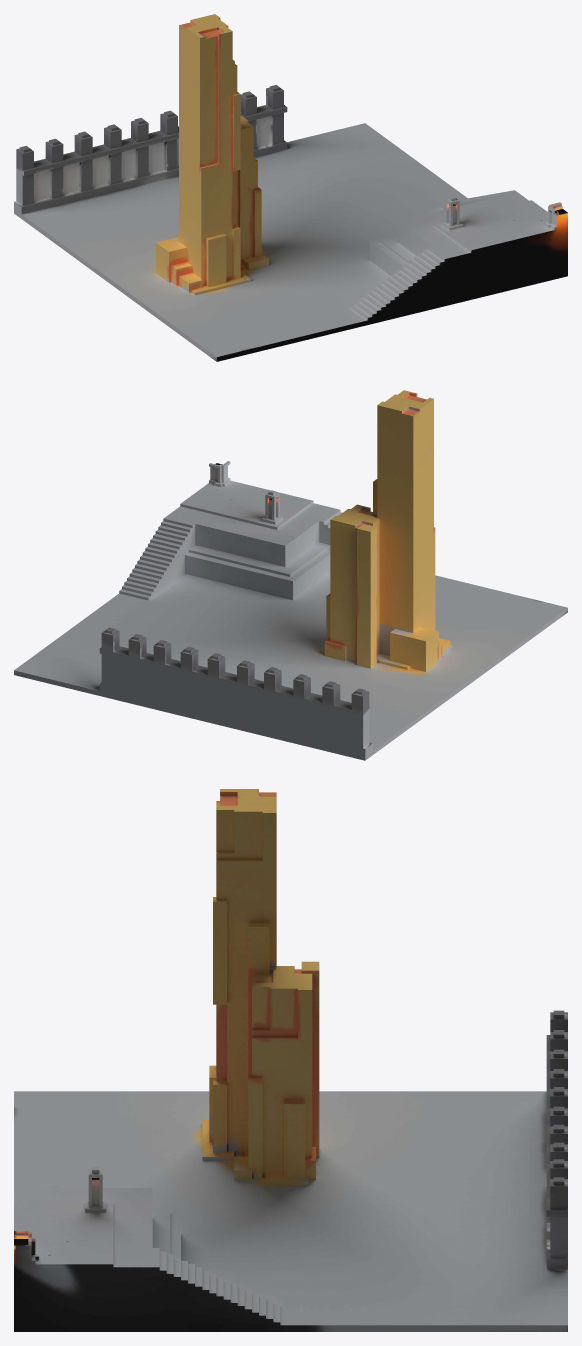
Rendered from palace_rock_com.glb.
3 renders of one model, top to bottom at view 1: azimuth 30°, elevation 25°; view 2: azimuth 150°, elevation 25°; view 3: azimuth 270°, elevation 25°, orthographic. The views are drawn at different scales.
Parts seen in each view (by area): view 1: palace_rock; view 2: palace_rock; view 3: palace_rock.
Part boxes in pixels (<box>): palace_rock: <box>14,14,567,361</box>; palace_rock: <box>14,390,567,760</box>; palace_rock: <box>14,789,567,1331</box>.
Size of the model in its own units: 156 by 108 by 156.
1 material, 1 textured.
